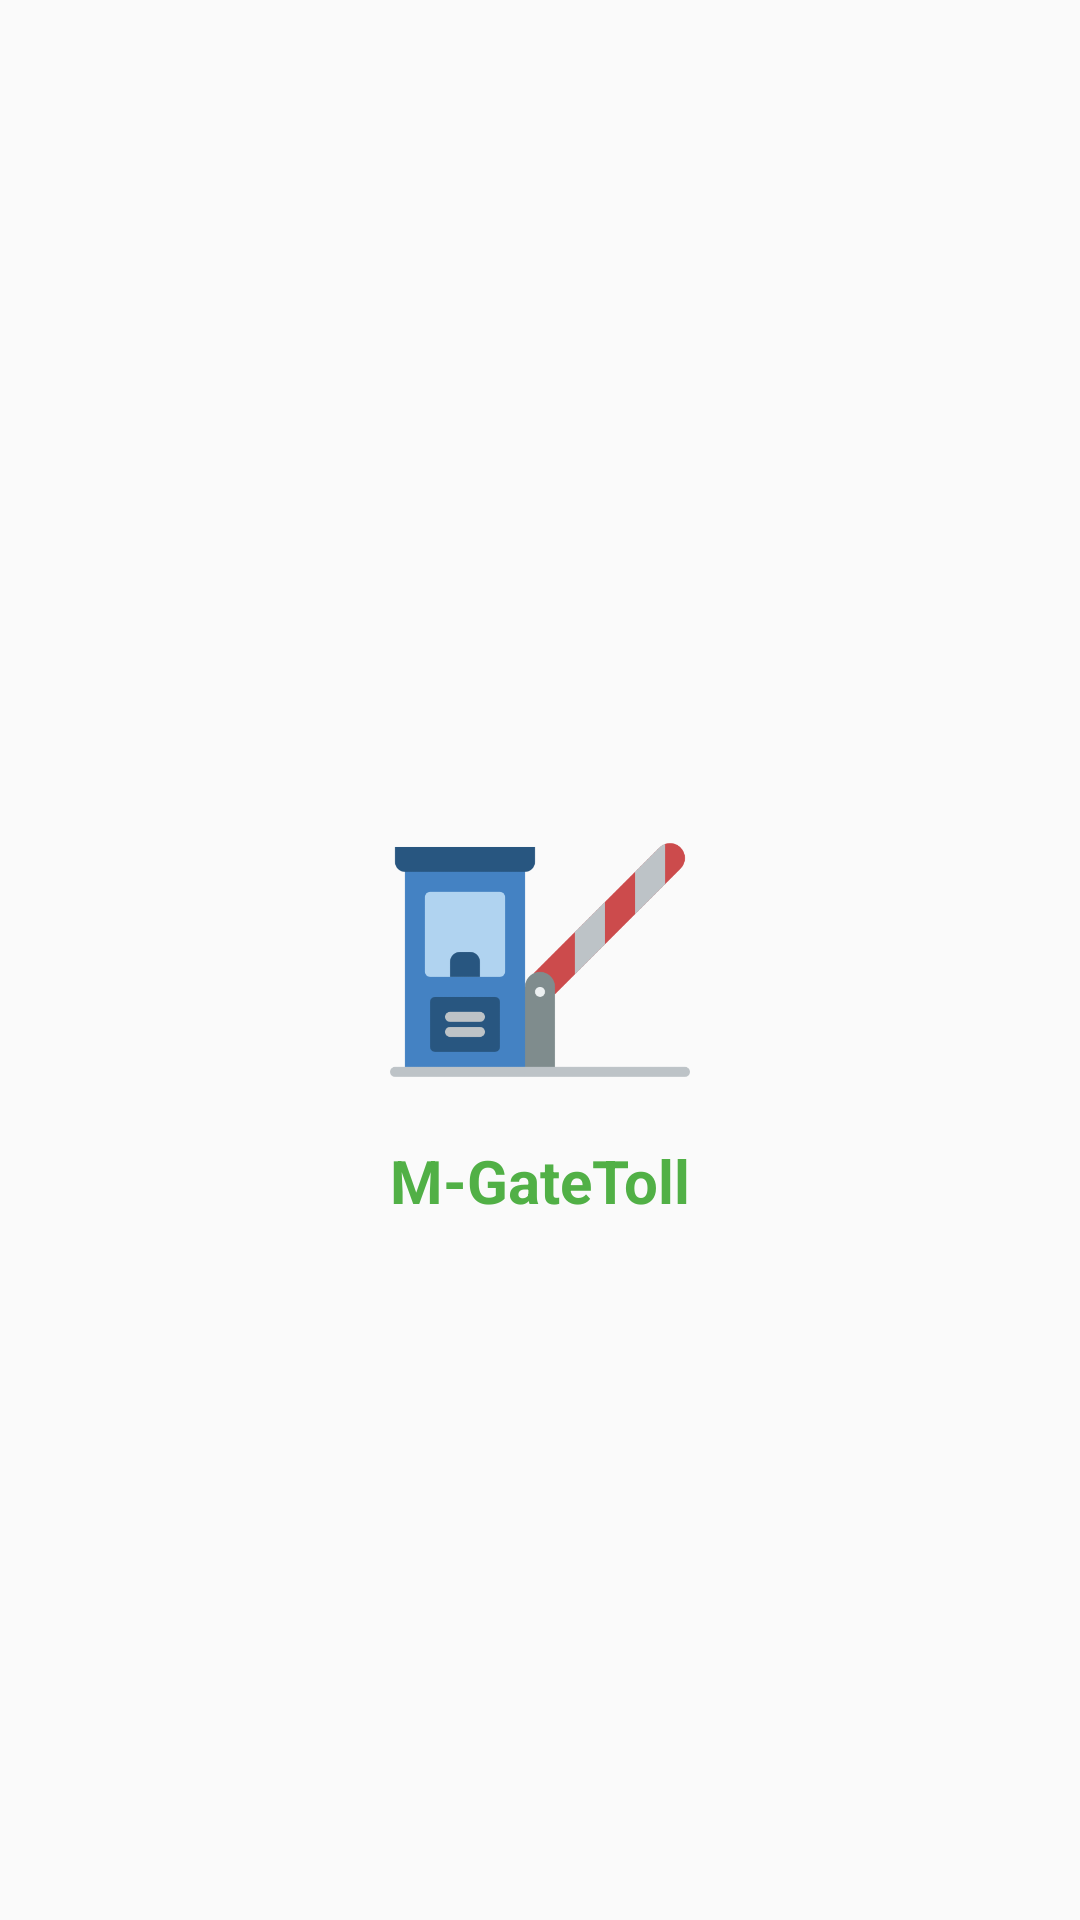

Screen size 1080x1920. Icon name, then its box in pixels as region(x1, y1, x2, y2):
tollroad: region(390, 843, 690, 1077)
